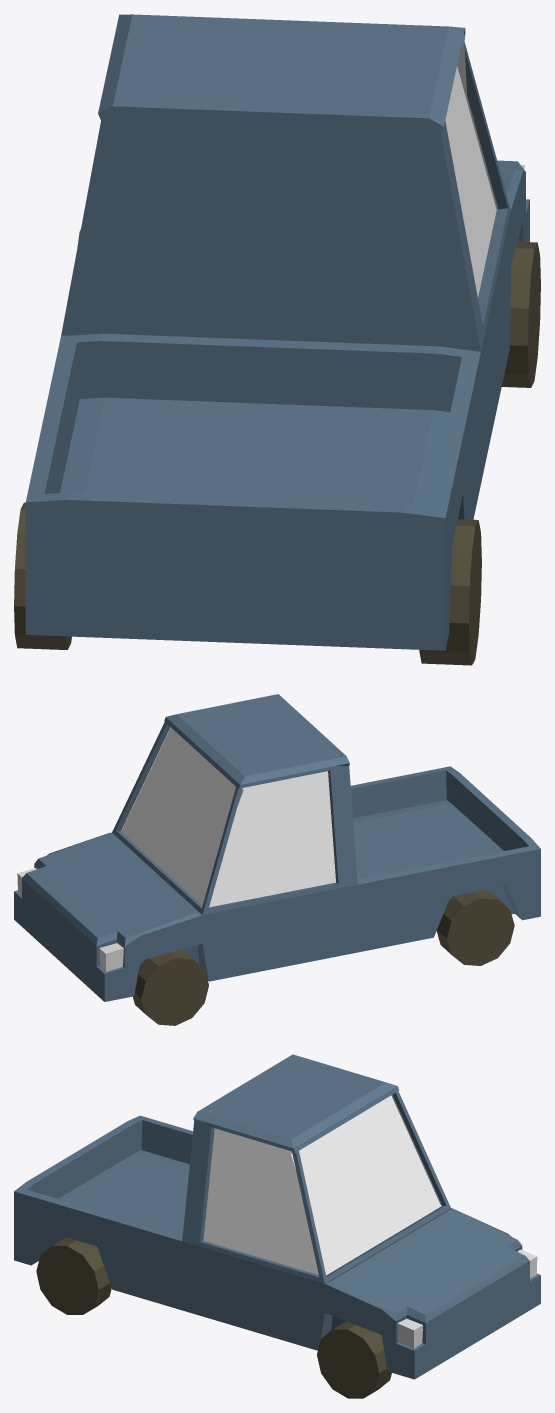
The picture shows the model from 3 angles, top to bottom: view 1: azimuth 30°, elevation 25°; view 2: azimuth 150°, elevation 25°; view 3: azimuth 270°, elevation 25°; orthographic projection. The views are drawn at different scales.
Parts seen in each view (by area): view 1: mini Truck; view 2: mini Truck; view 3: mini Truck.
Boxes of the visible parts, <box> form: mini Truck: <box>14,14,540,665</box>; mini Truck: <box>14,694,540,1025</box>; mini Truck: <box>14,1054,540,1398</box>.
Size of the model in its own units: 253 by 135 by 289.
